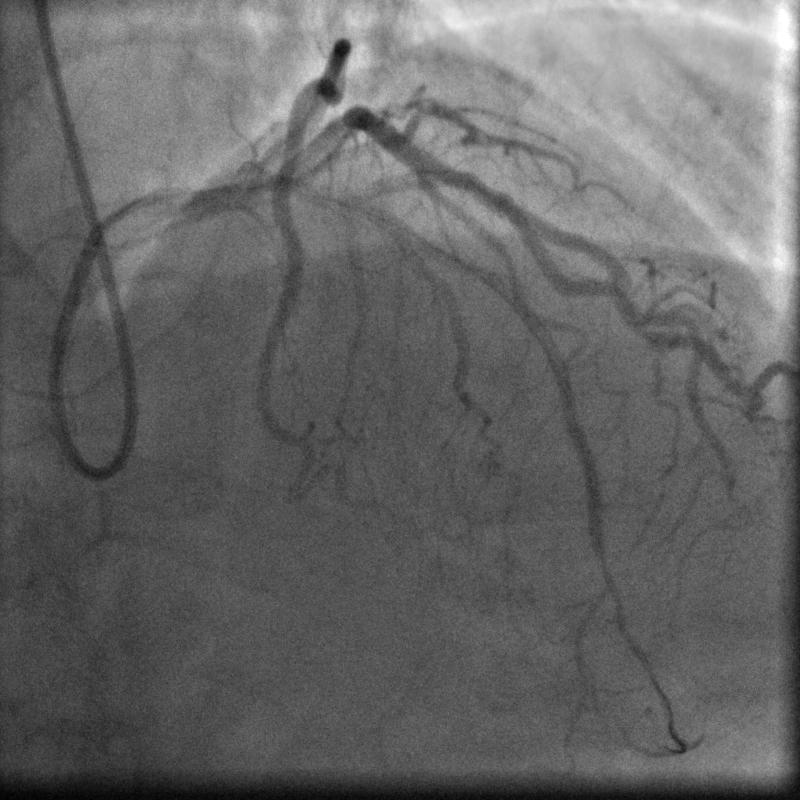Stenosis: (463, 166, 512, 212)
